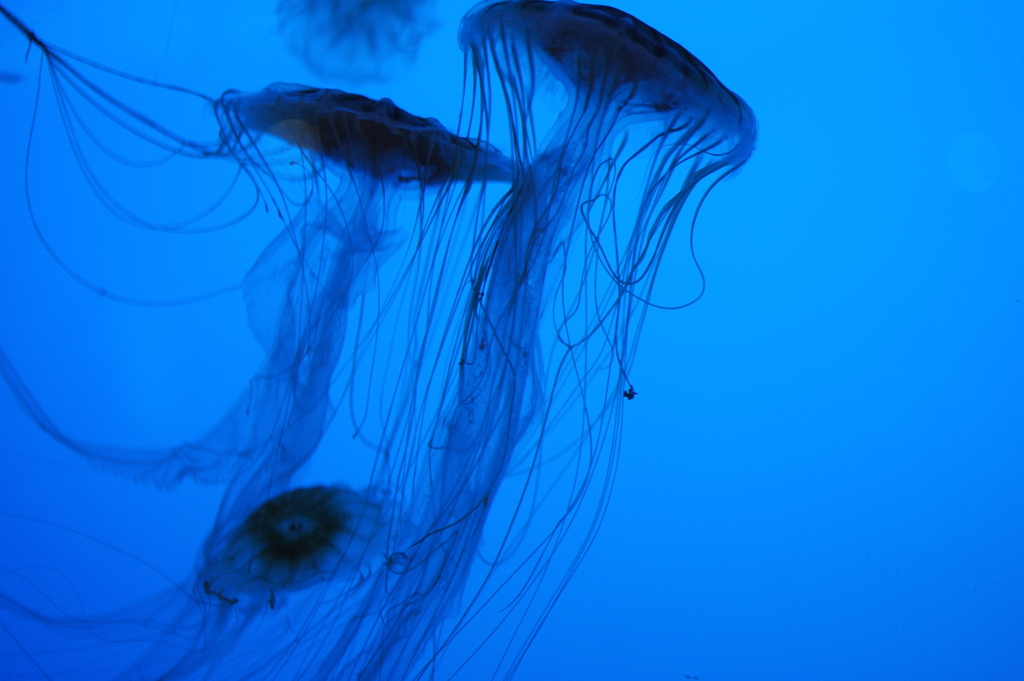Jellyfish: (232, 0, 759, 680), (0, 3, 527, 680), (0, 467, 408, 680)
